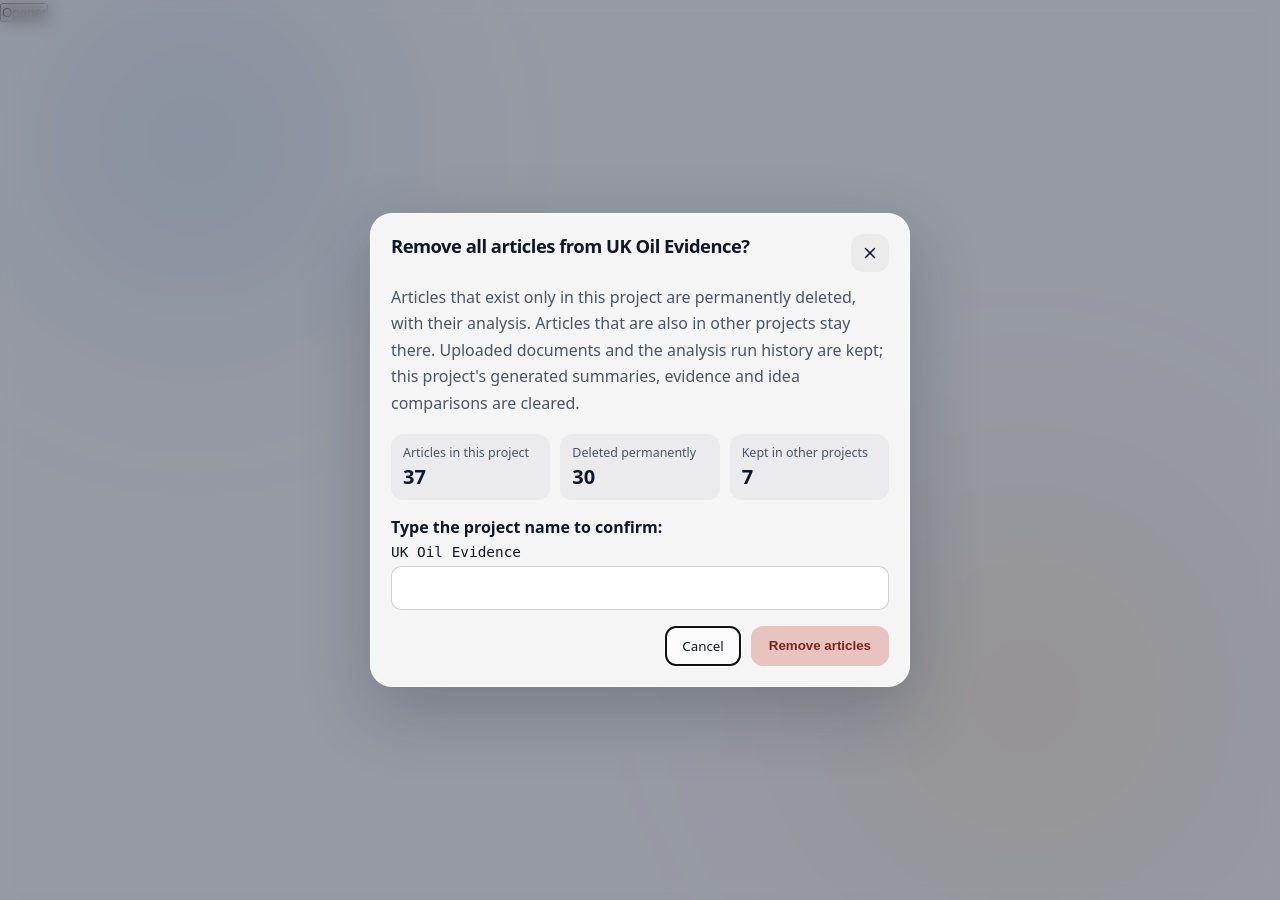
it: RemoveProjectArticlesDialog › keeps Remove disabled until the exact project name is typed
This screenshot has width=1280, height=900.
Check: the button "Remove articles" is disabled, box [751, 626, 889, 666]
Type "uk oil evidence" into the field labelled "Type the project name to confirm:" at (640, 588), box [391, 566, 889, 610]
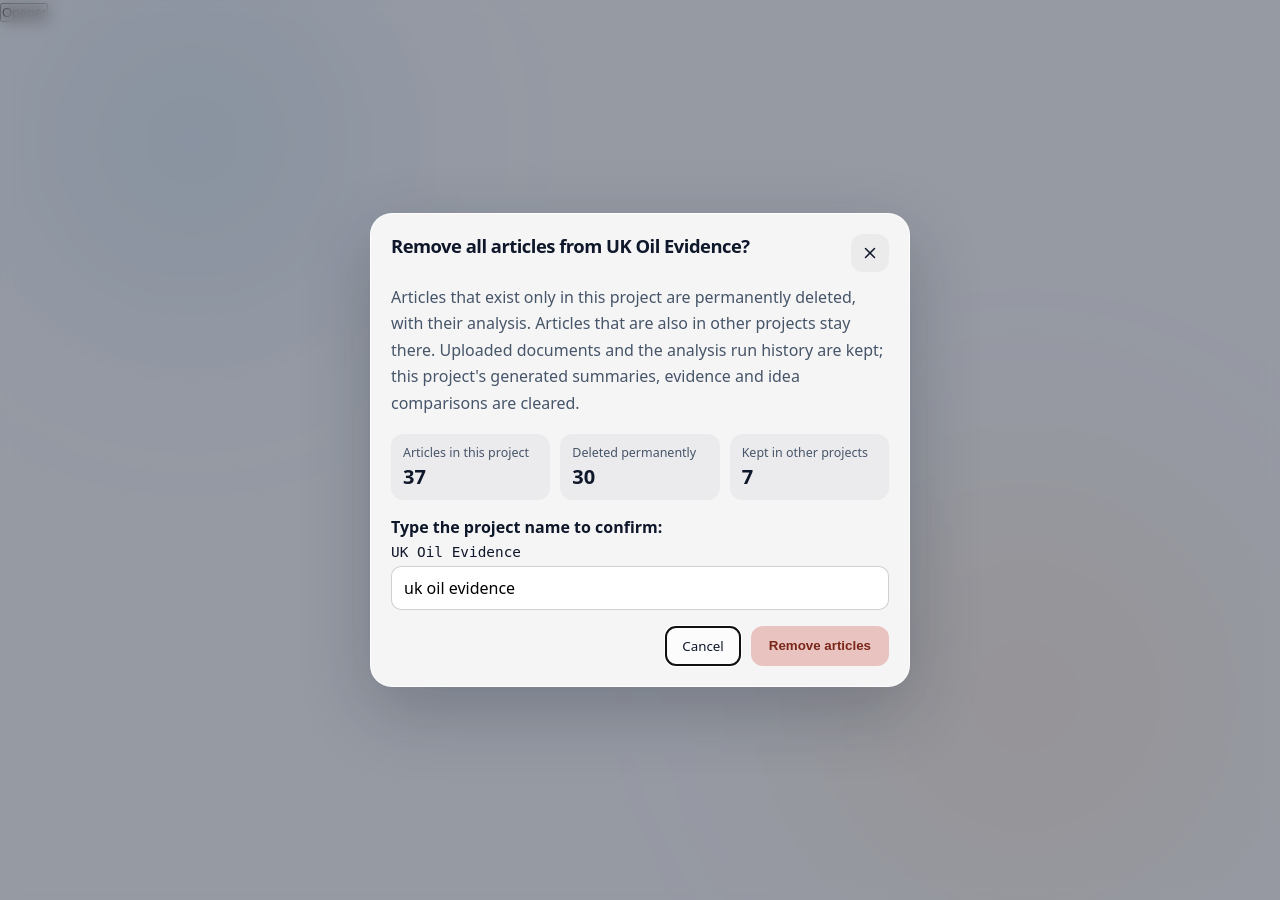
Check: the button "Remove articles" is disabled, box [751, 626, 889, 666]
Replace the text in the field labelled "Type the project name to confirm:" with "UK Oil Evidence" at (640, 588), box [391, 566, 889, 610]
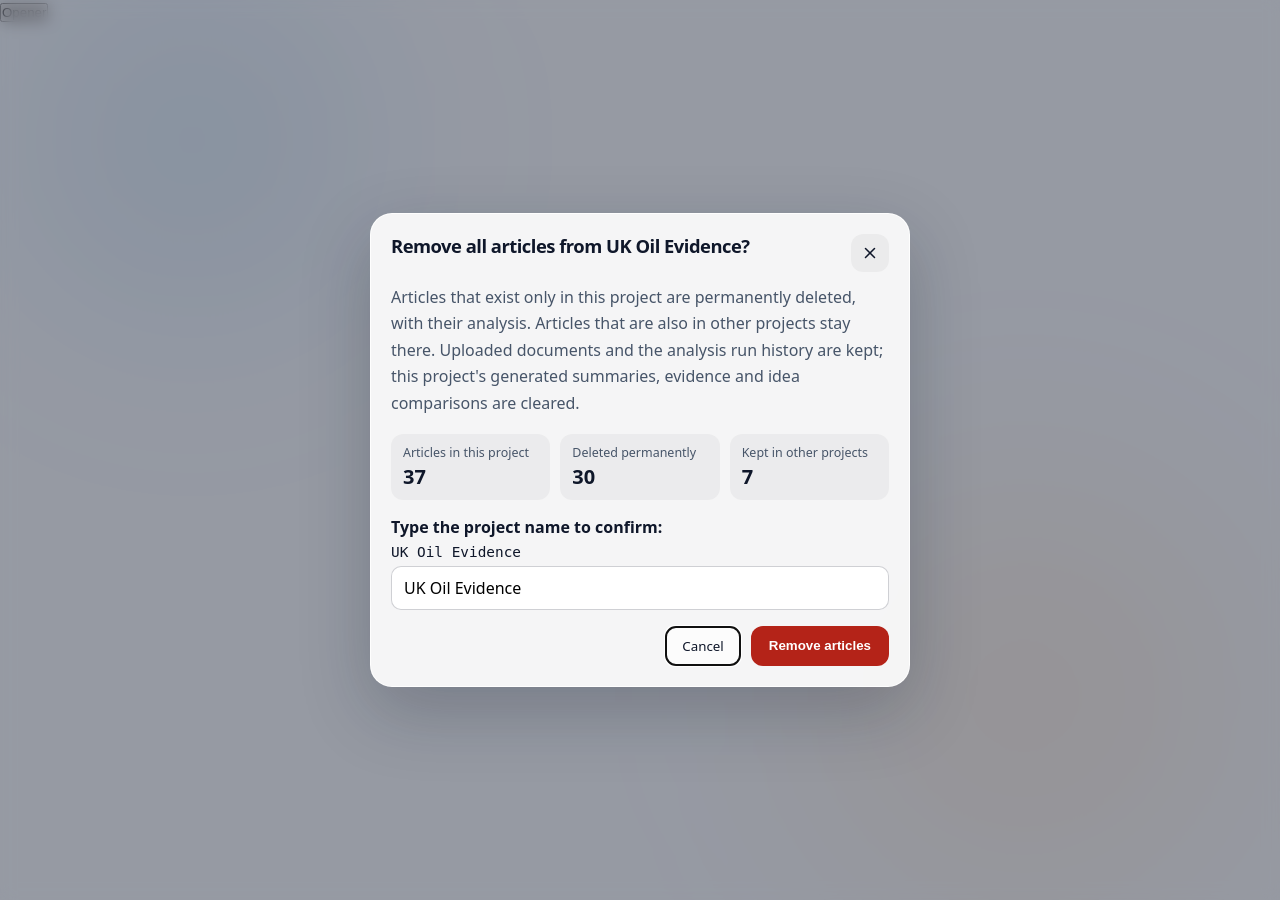
Check: the button "Remove articles" is enabled, box [751, 626, 889, 666]
